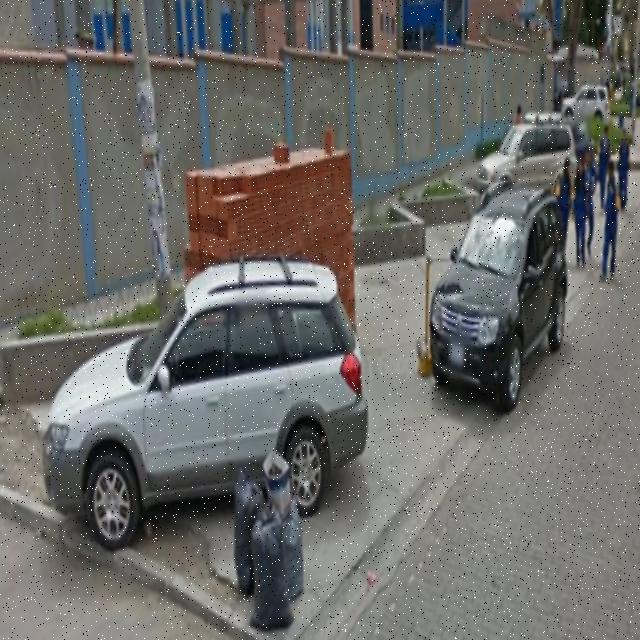cars: (24, 261, 373, 541), (436, 188, 571, 416)
